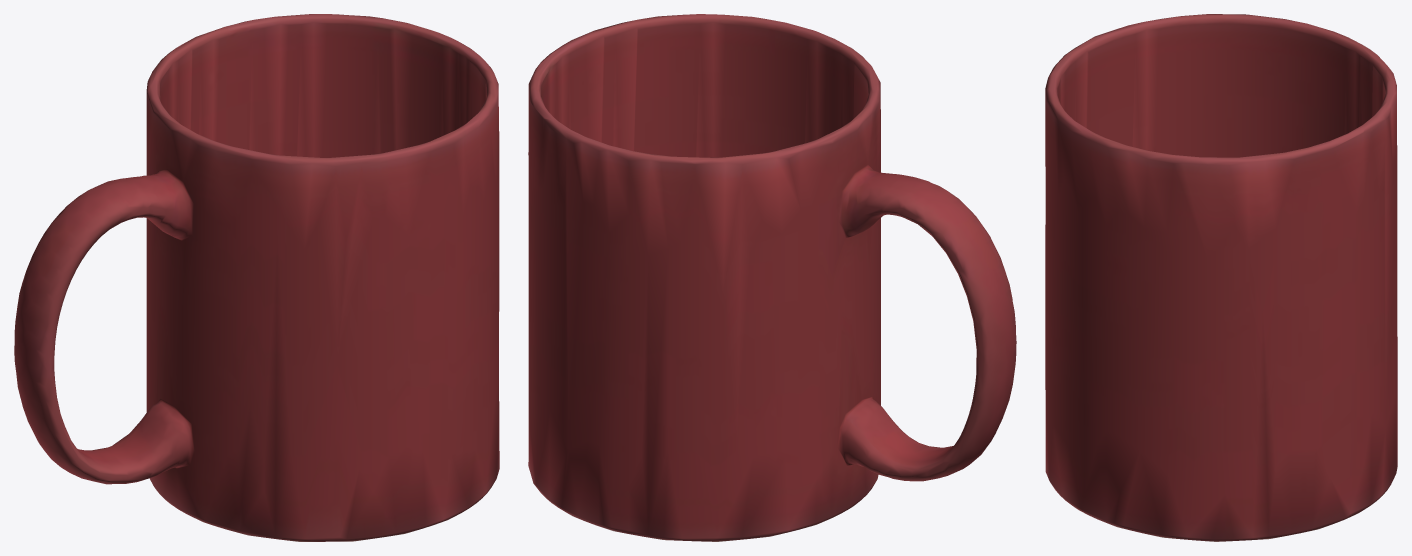
The model's file is dishware_mug_coffee_a01.glb.
3 renders of one model, left to right at view 1: azimuth 30°, elevation 25°; view 2: azimuth 150°, elevation 25°; view 3: azimuth 270°, elevation 25°, orthographic.
Parts seen in each view (by area): view 1: sm_dishware_mug_coffee_a01_01; view 2: sm_dishware_mug_coffee_a01_01; view 3: sm_dishware_mug_coffee_a01_01.
Boxes of the visible parts, left/top/right/bottom form: sm_dishware_mug_coffee_a01_01: left=14, top=14, right=499, bottom=541; sm_dishware_mug_coffee_a01_01: left=528, top=14, right=1016, bottom=541; sm_dishware_mug_coffee_a01_01: left=1045, top=14, right=1397, bottom=541.
Size of the model in its own units: 0.1207 by 0.0972 by 0.081.
1 material, 1 textured.
